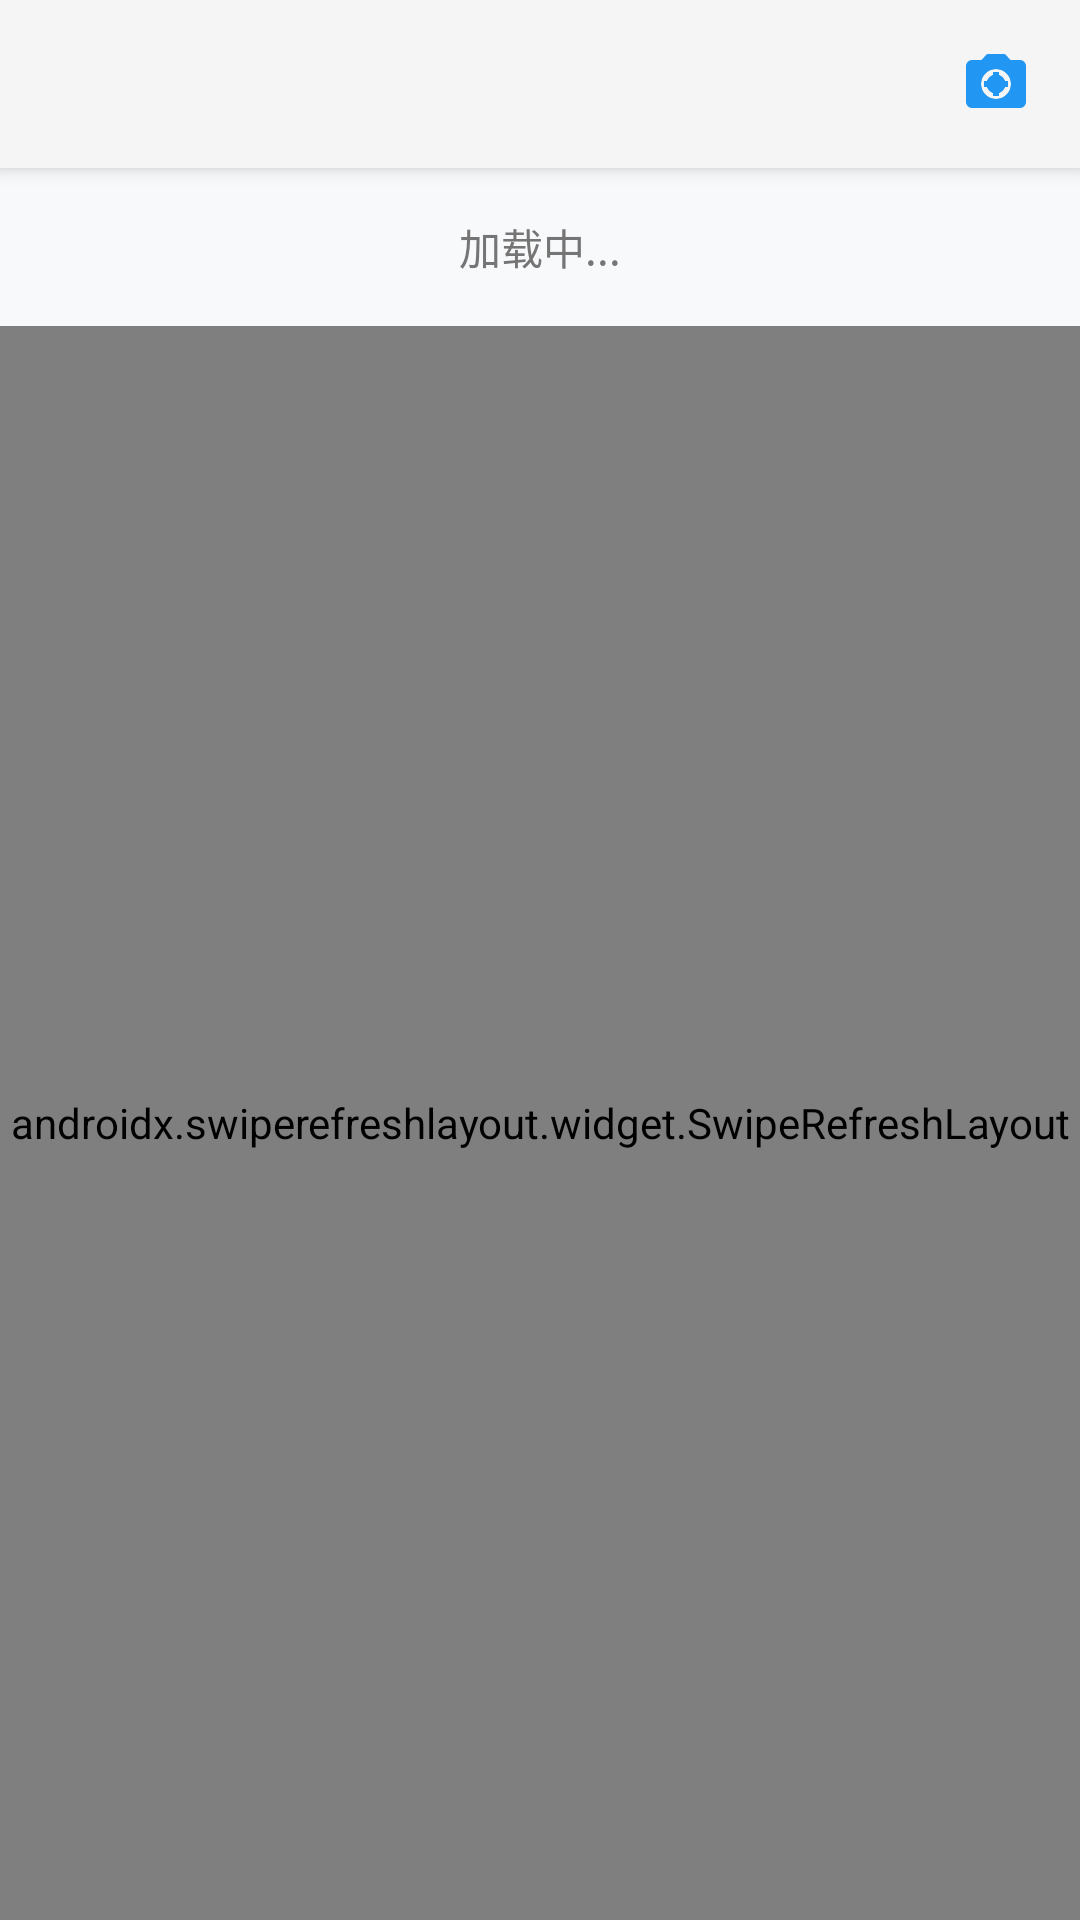

Icons on this 1080*1920 Android screen, each with its box as [x1, y1, x2, y2]:
添加图片: [966, 54, 1026, 108]
